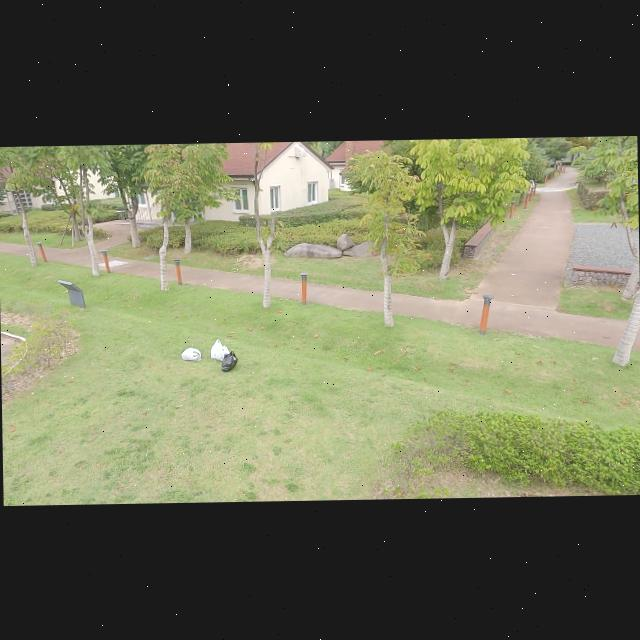trash: (210, 336, 232, 358), (182, 342, 202, 364), (221, 349, 236, 370)
